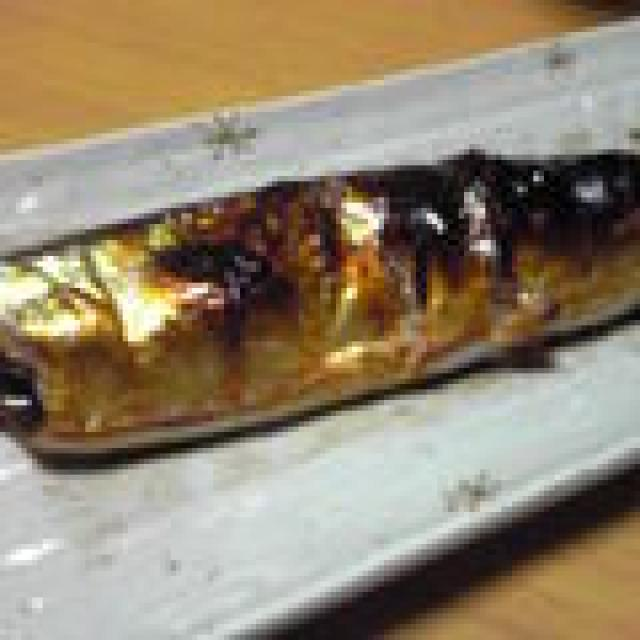熟制海鲜: (0, 128, 640, 384)
